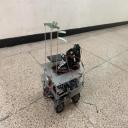cart: (40, 64, 84, 114)
